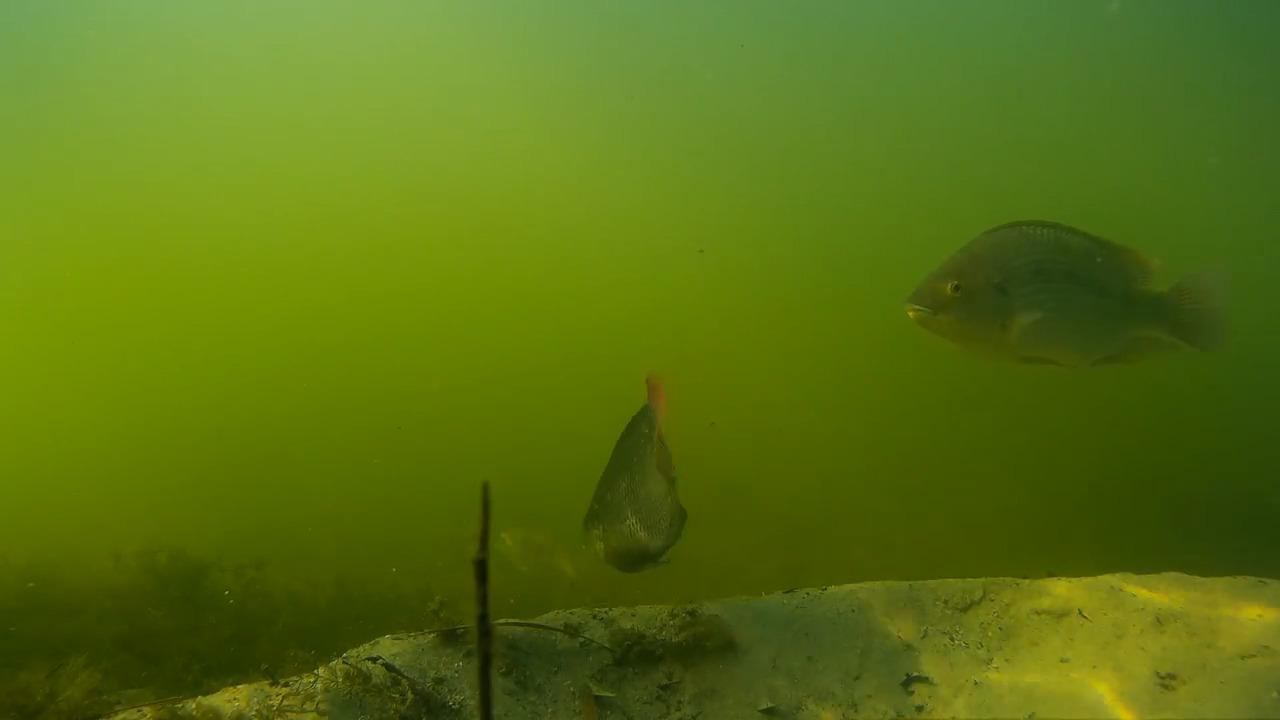Tilapia: (883, 208, 1236, 398), (541, 362, 736, 590), (479, 516, 590, 606)
